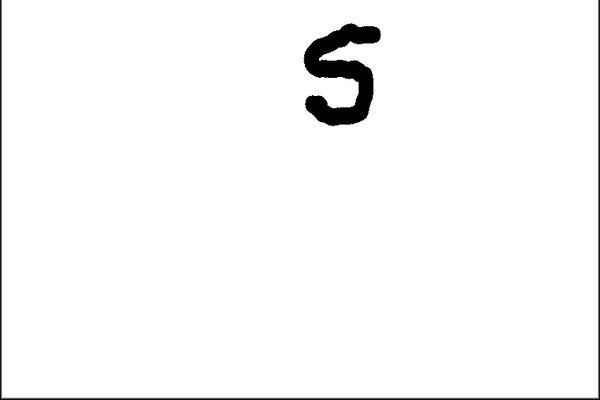S: (293, 15, 385, 131)
